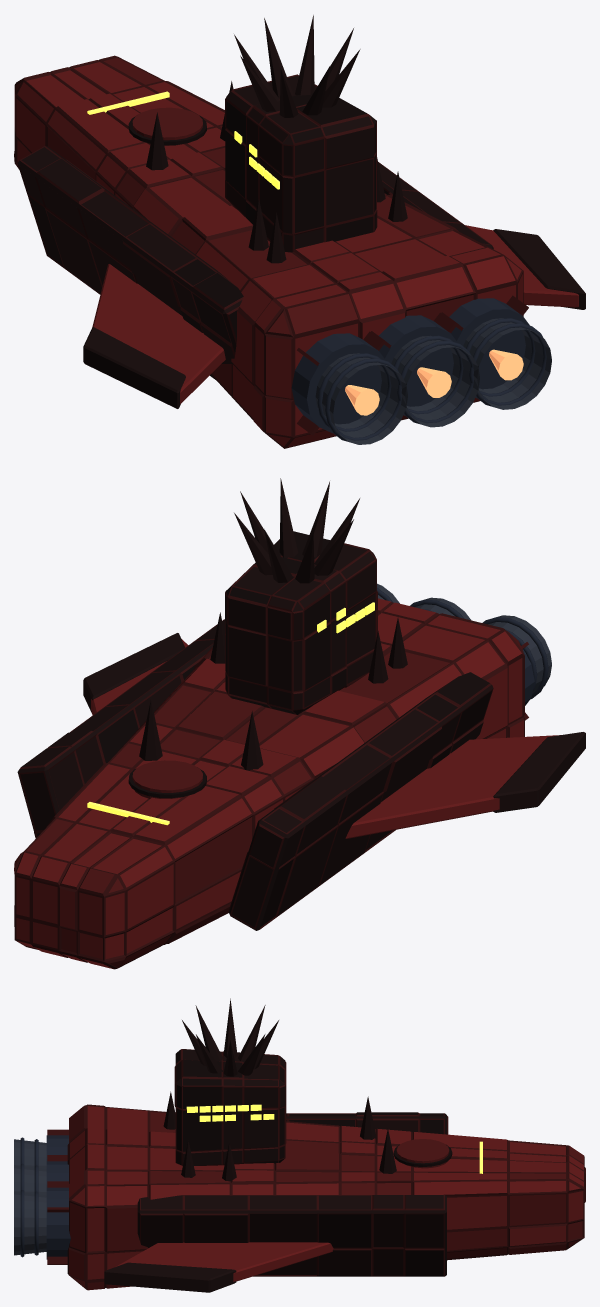
File: captain.glb
The picture shows the model from 3 angles, top to bottom: view 1: azimuth 30°, elevation 25°; view 2: azimuth 150°, elevation 25°; view 3: azimuth 270°, elevation 25°; orthographic projection. The views are drawn at different scales.
Visible parts, largest first — view 1: captain_mesh; view 2: captain_mesh; view 3: captain_mesh.
Part boxes in pixels (x1,y1,x2,y2): captain_mesh: (14, 15, 585, 448); captain_mesh: (14, 478, 585, 969); captain_mesh: (14, 998, 585, 1292).
Bounding box in the file's own units: 11.38 × 7.45 × 16.64.
